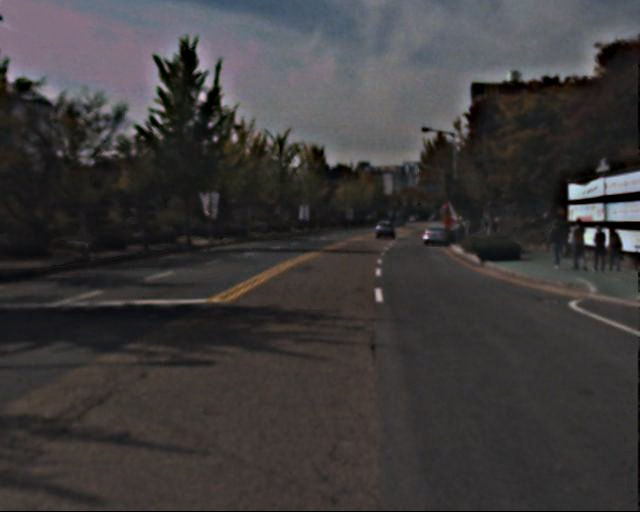person: (566, 215, 589, 272), (600, 221, 624, 275), (587, 223, 610, 273), (548, 220, 570, 271)
